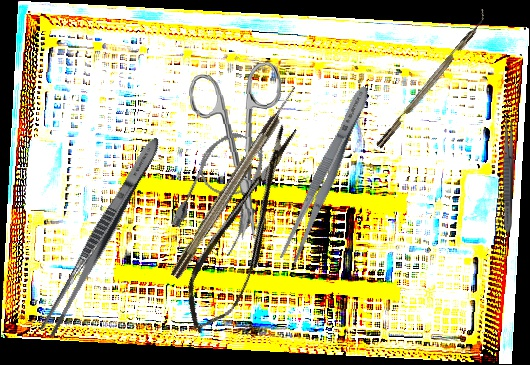Cannula: (168, 123, 282, 259)
Chopper: (369, 7, 492, 149)
Dressing Forceps: (37, 133, 166, 340), (276, 82, 377, 266), (502, 115, 514, 233)
Hook Surgical: (168, 84, 301, 280)
Iris Scissors: (187, 61, 292, 243)
Micro Scissor: (168, 116, 321, 343)
